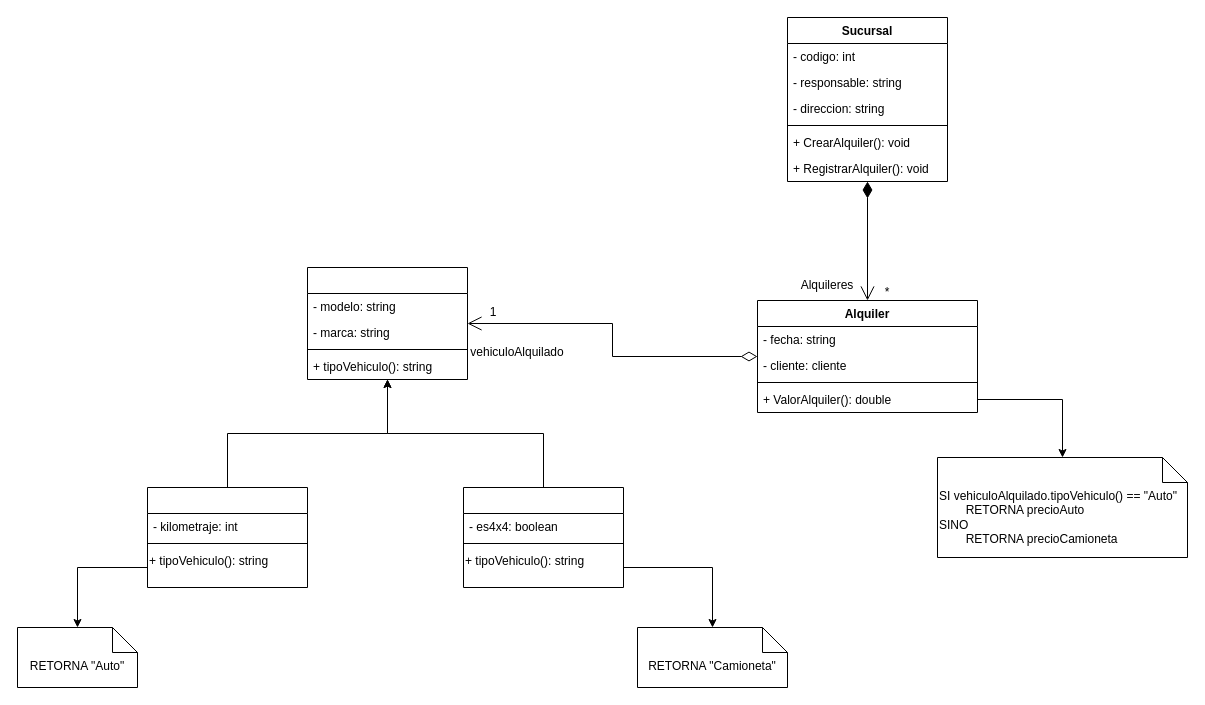
This 1205x705 diagram has some shape labels left out. Each missing label, with the box of its shape:
(Abstract) Vehiculo: (306, 266, 468, 380)
Auto: (146, 486, 308, 588)
Camioneta: (462, 486, 624, 588)
